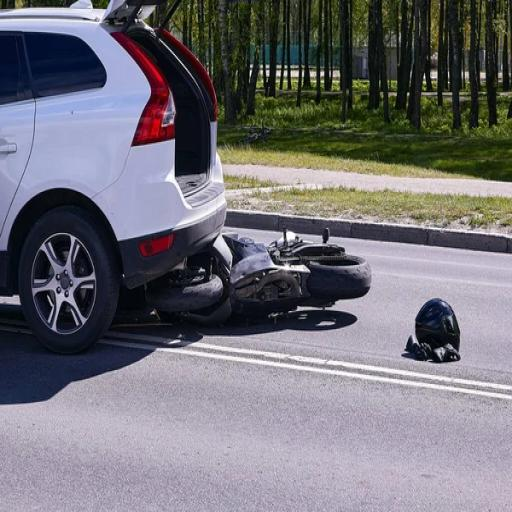小汽车撞自行车: (4, 13, 376, 356)
